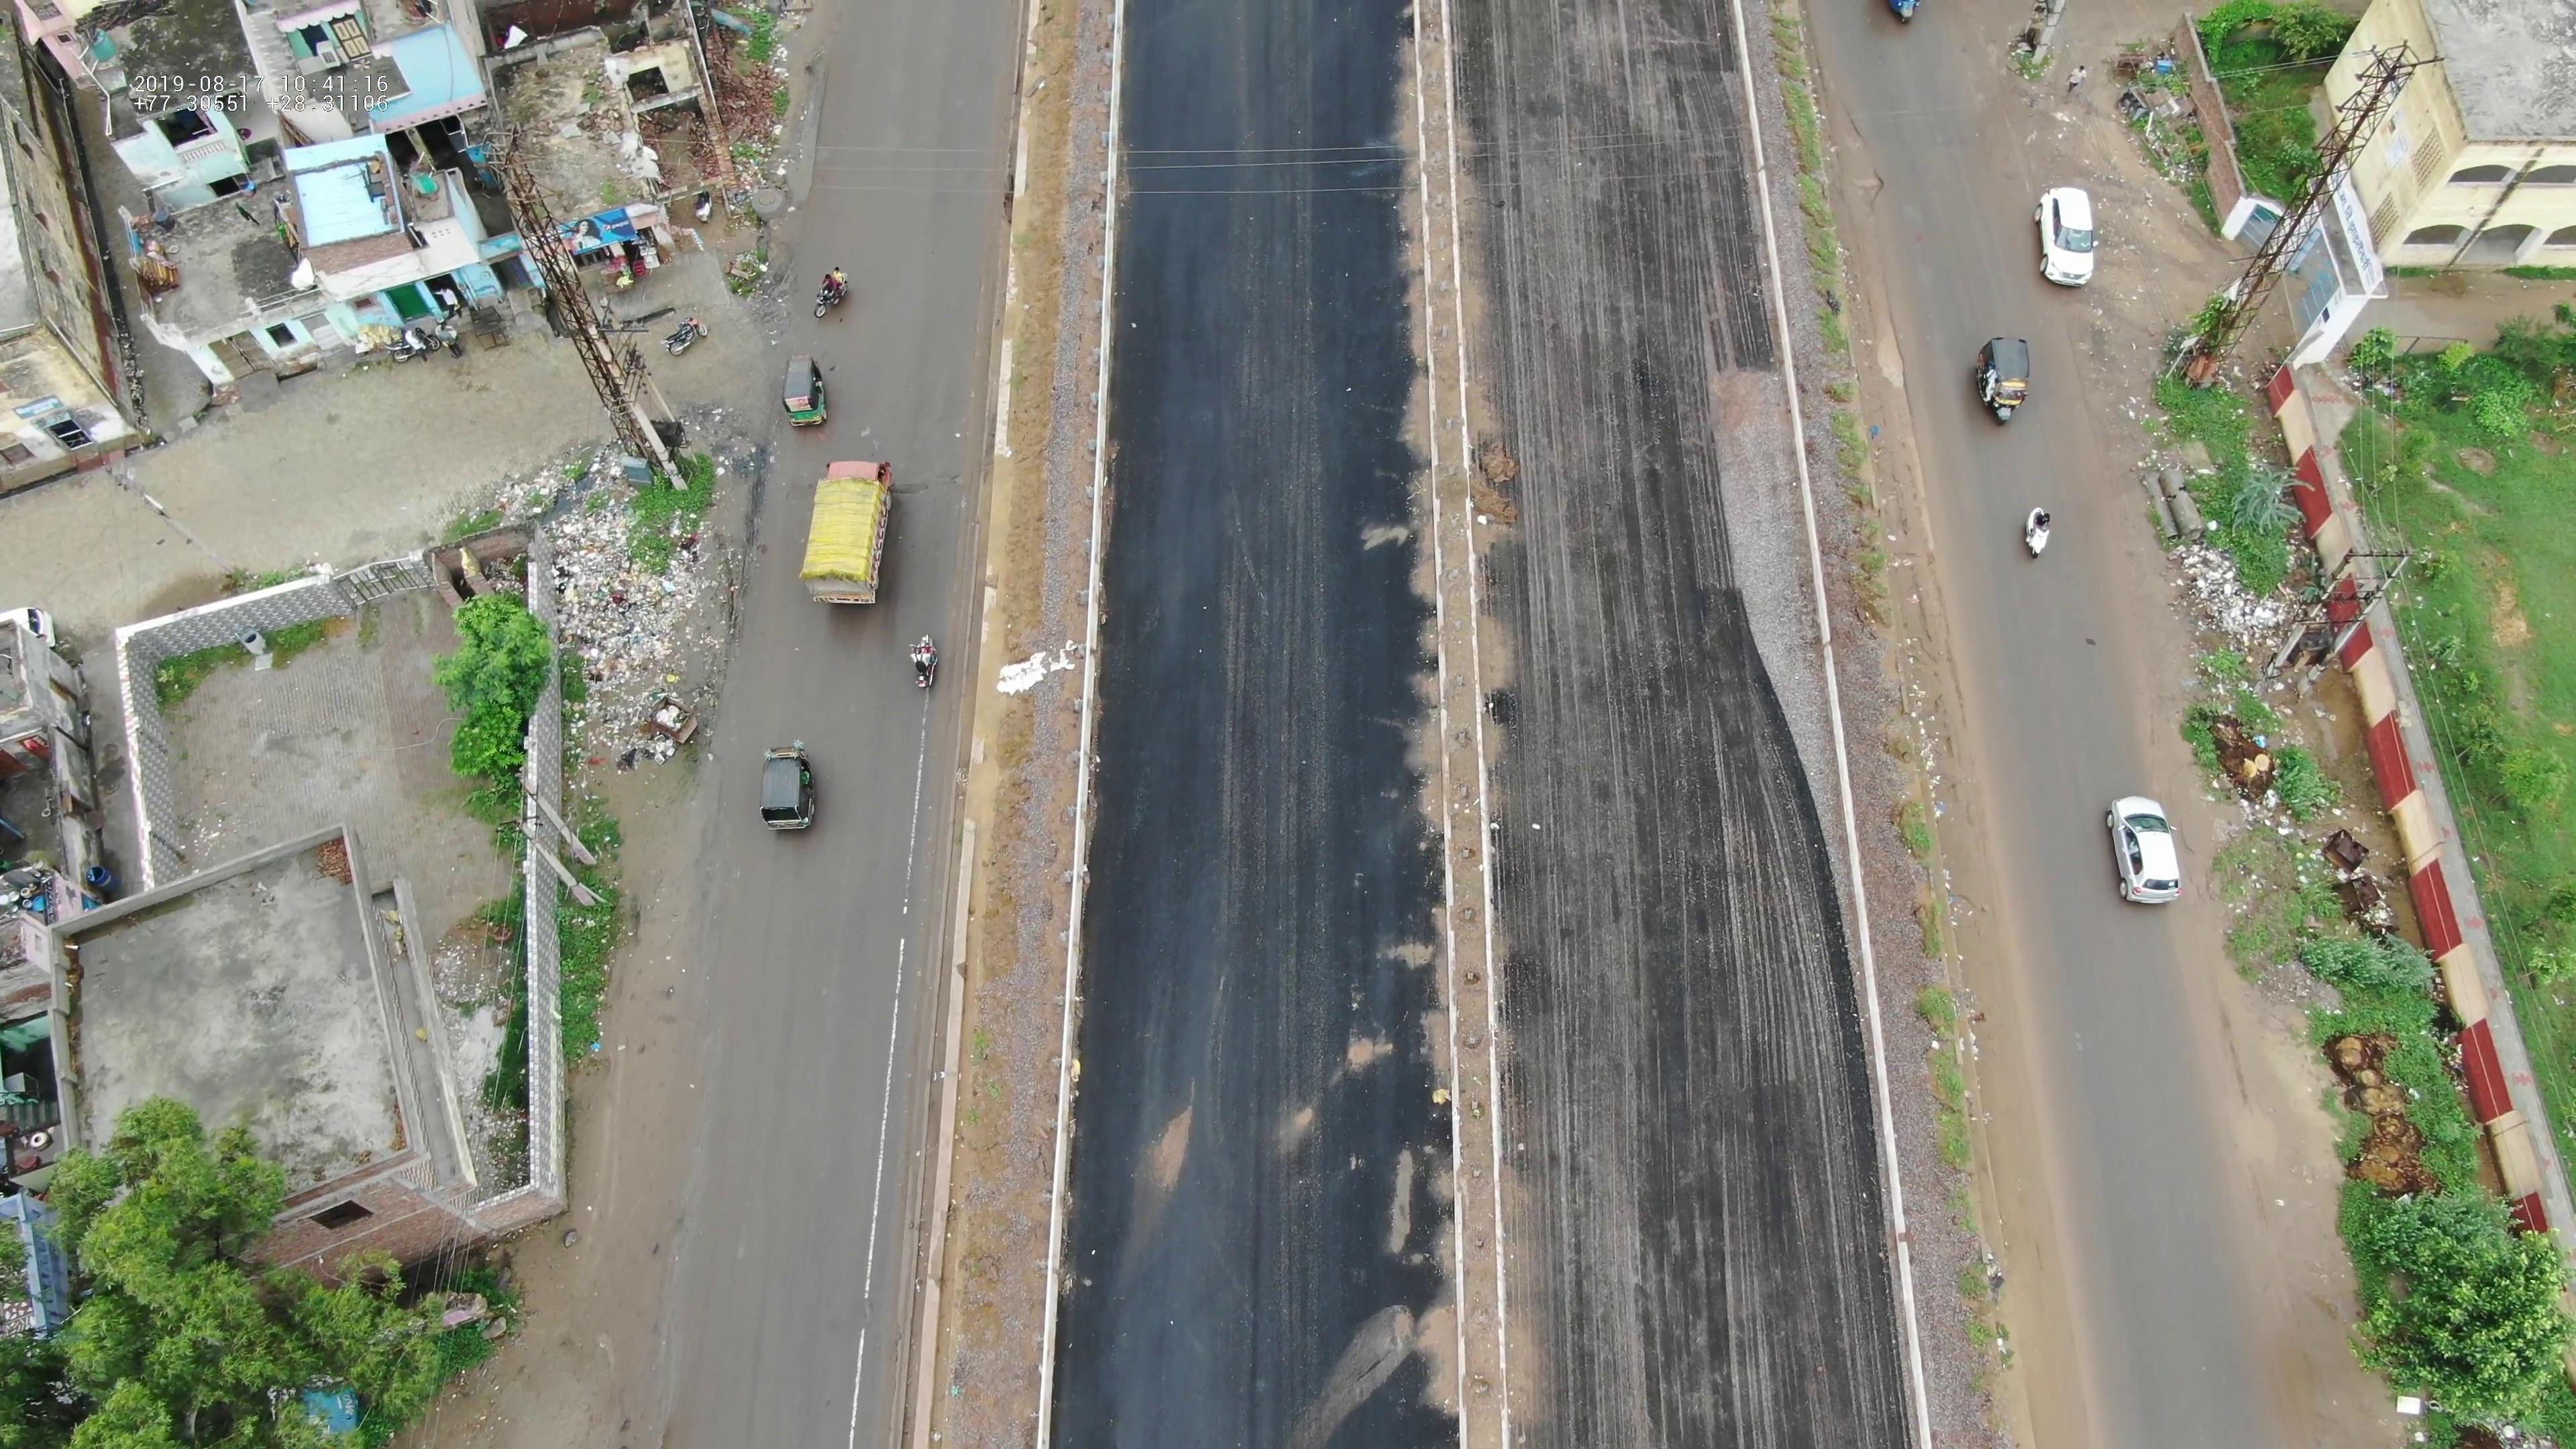Muddy_road: (1960, 998, 2097, 1391)
